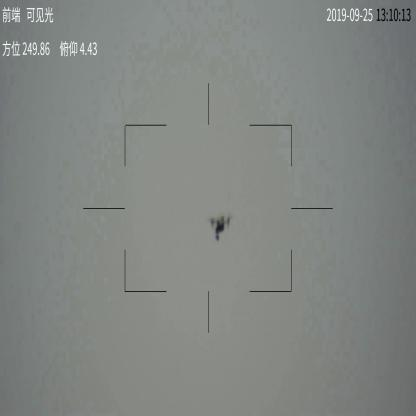uav: (208, 214, 232, 240)
